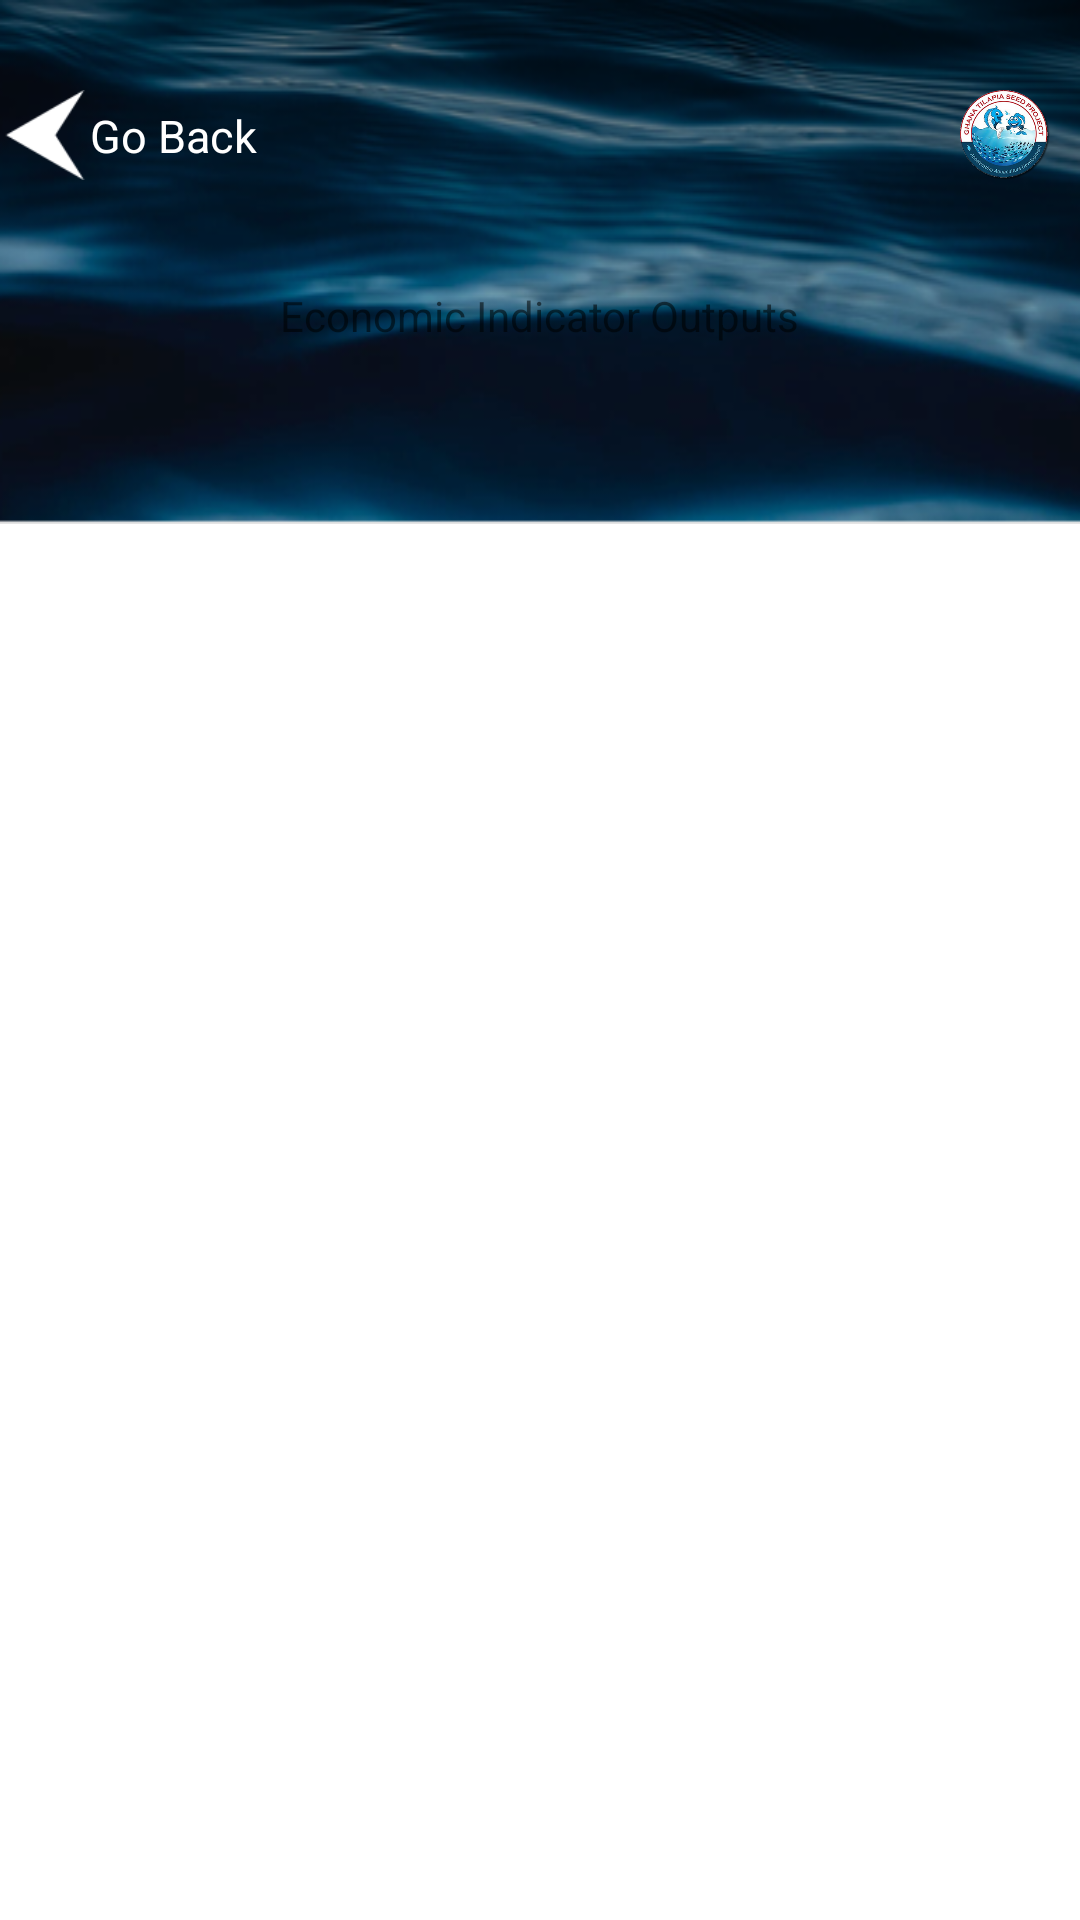

Screen size 1080px x 1920px. Icon name, then its center in pixels as [x,y]:
arrowwhite: [45,135]
